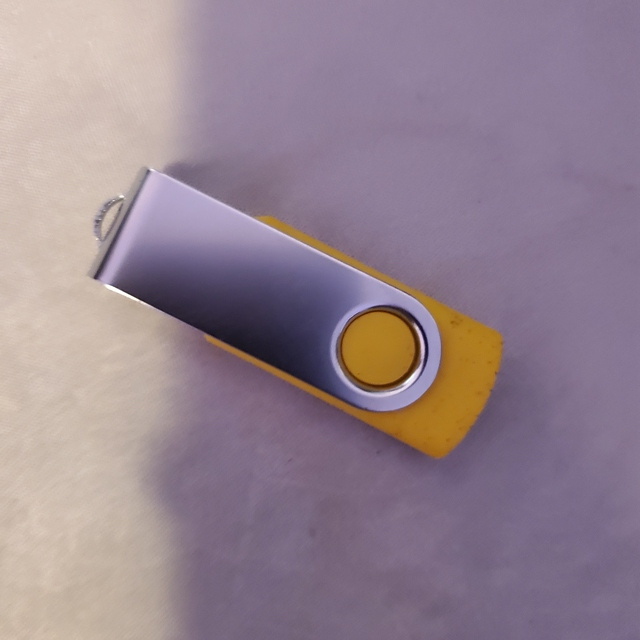usb_drive: (87, 166, 513, 463)
